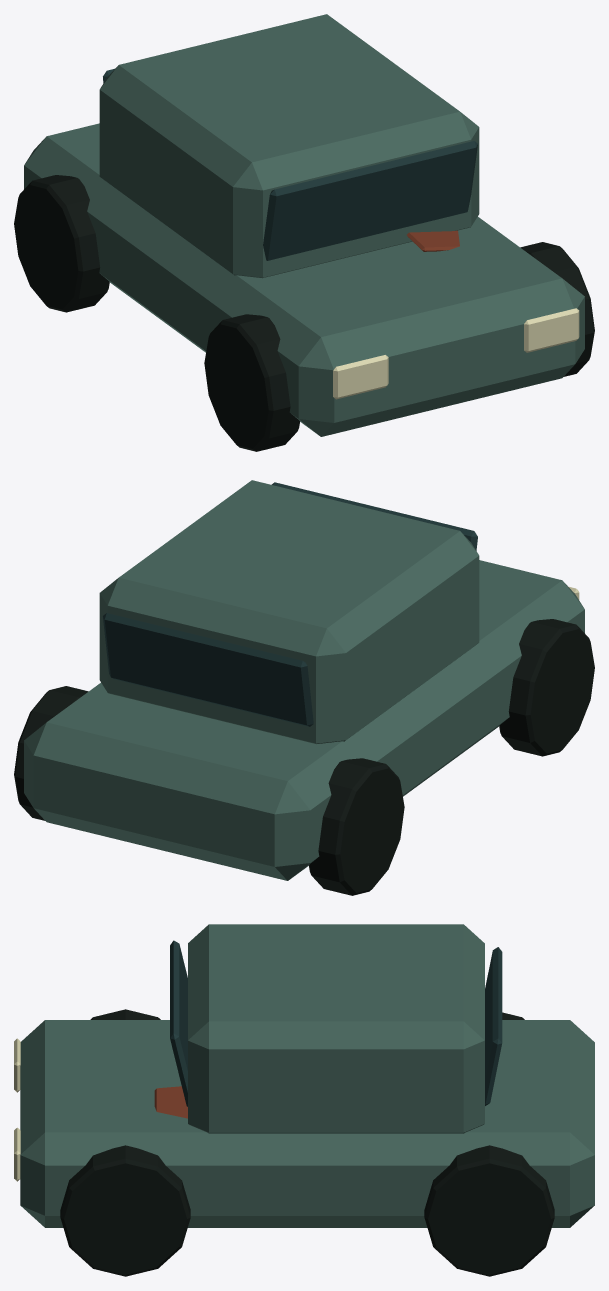
Rendered from car.glb.
The picture shows the model from 3 angles, top to bottom: view 1: azimuth 30°, elevation 25°; view 2: azimuth 150°, elevation 25°; view 3: azimuth 270°, elevation 25°; orthographic projection. The views are drawn at different scales.
Parts seen in each view (by area): view 1: Chassis, Cabin, Windshield, Wheel, Wheel.001, Wheel.002, Headlight, Headlight.001, RustPatch; view 2: Chassis, Cabin, RearGlass, Wheel.001, Wheel, Wheel.003, Windshield; view 3: Chassis, Cabin, Wheel.002, Wheel.003, Windshield, RearGlass, RustPatch, Wheel.
Part boxes in pixels (bbox=[...]): Chassis: bbox=[24, 123, 584, 436]; Cabin: bbox=[99, 14, 479, 278]; Windshield: bbox=[263, 141, 477, 260]; Wheel: bbox=[204, 314, 299, 451]; Wheel.001: bbox=[14, 175, 109, 312]; Wheel.002: bbox=[520, 242, 594, 376]; Headlight: bbox=[333, 355, 388, 399]; Headlight.001: bbox=[524, 308, 579, 352]; RustPatch: bbox=[407, 230, 459, 251]; Chassis: bbox=[24, 560, 584, 880]; Cabin: bbox=[99, 480, 479, 743]; RearGlass: bbox=[103, 613, 313, 726]; Wheel.001: bbox=[309, 758, 404, 895]; Wheel: bbox=[499, 619, 594, 756]; Wheel.003: bbox=[14, 686, 88, 820]; Windshield: bbox=[271, 482, 477, 550]; Chassis: bbox=[20, 1020, 594, 1227]; Cabin: bbox=[188, 924, 484, 1133]; Wheel.002: bbox=[60, 1145, 190, 1276]; Wheel.003: bbox=[424, 1145, 554, 1276]; Windshield: bbox=[170, 940, 187, 1106]; RearGlass: bbox=[485, 947, 502, 1105]; RustPatch: bbox=[154, 1086, 187, 1118]; Wheel: bbox=[90, 1009, 160, 1019].
Size of the model in its own units: 1.88 by 1.32 by 3.03.
